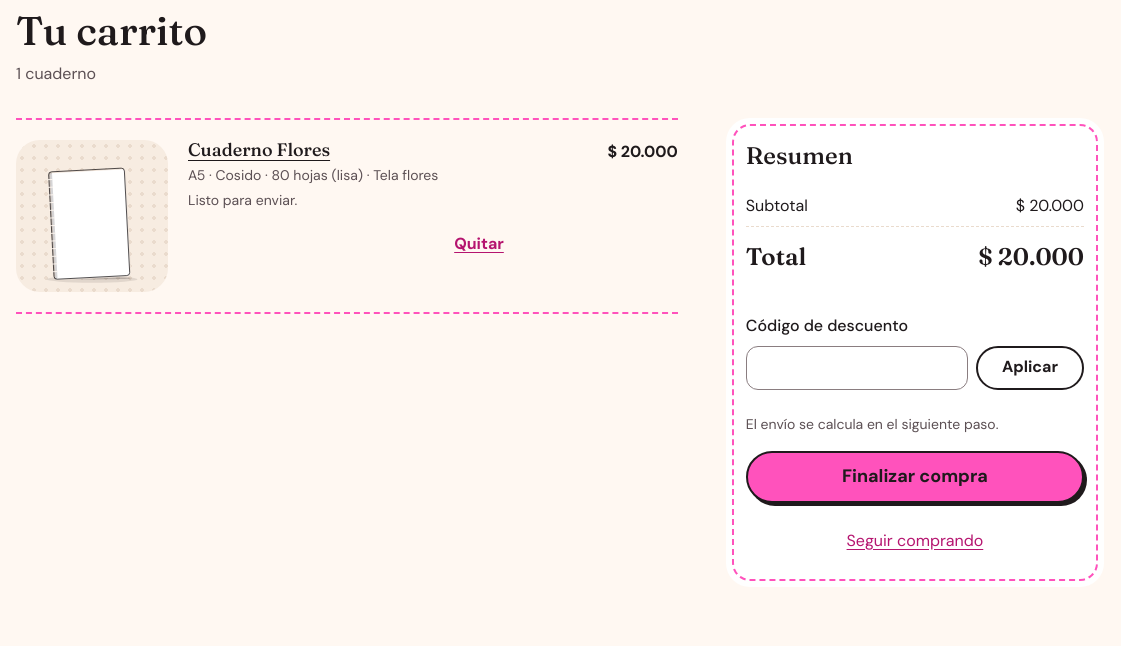
Test case: CartView › si el código no existe, lo dice y no lo aplica
The image size is (1121, 646).
Type "NOEXISTE" into the field labelled "Código de descuento". click: (857, 368)
box: top-left (746, 346), bottom-right (968, 390)
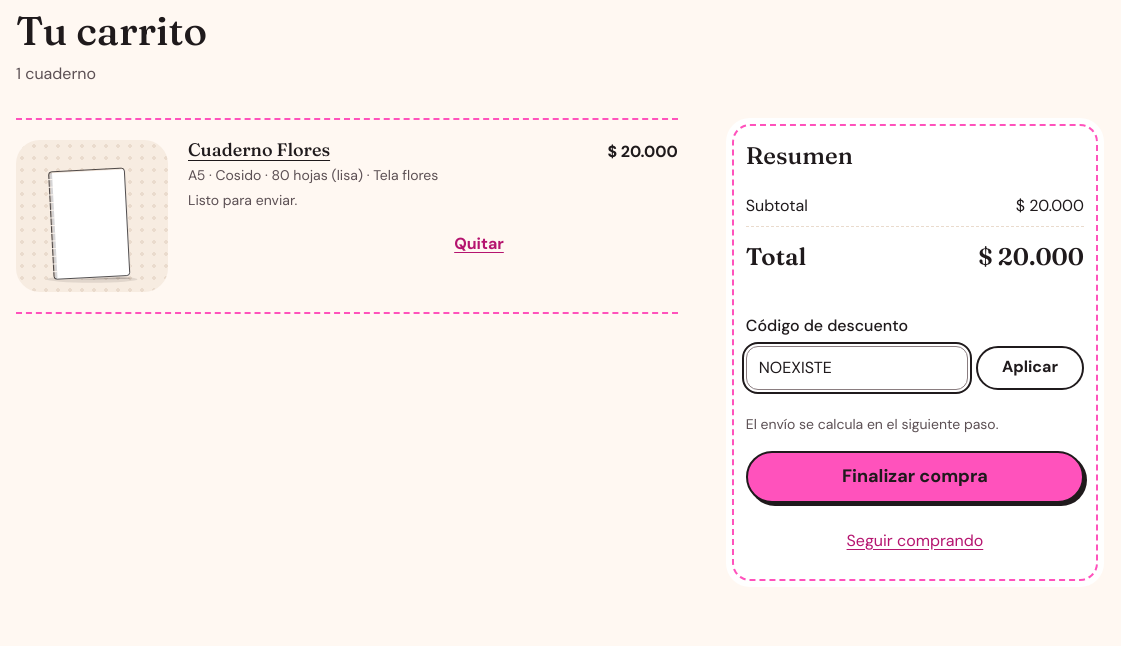
Click the button "Aplicar". click: (1030, 368)
box: top-left (976, 346), bottom-right (1084, 390)
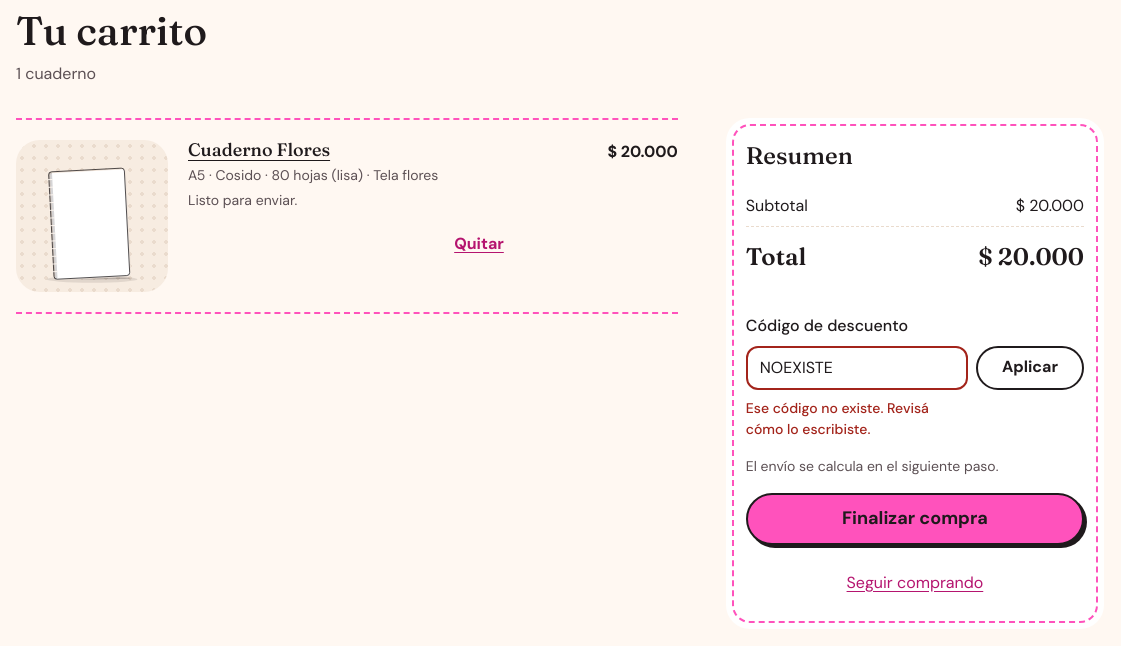
expect the text "Ese código no existe. Revisá cómo lo escribiste." is shown: met, box top-left (746, 399), bottom-right (929, 438)
